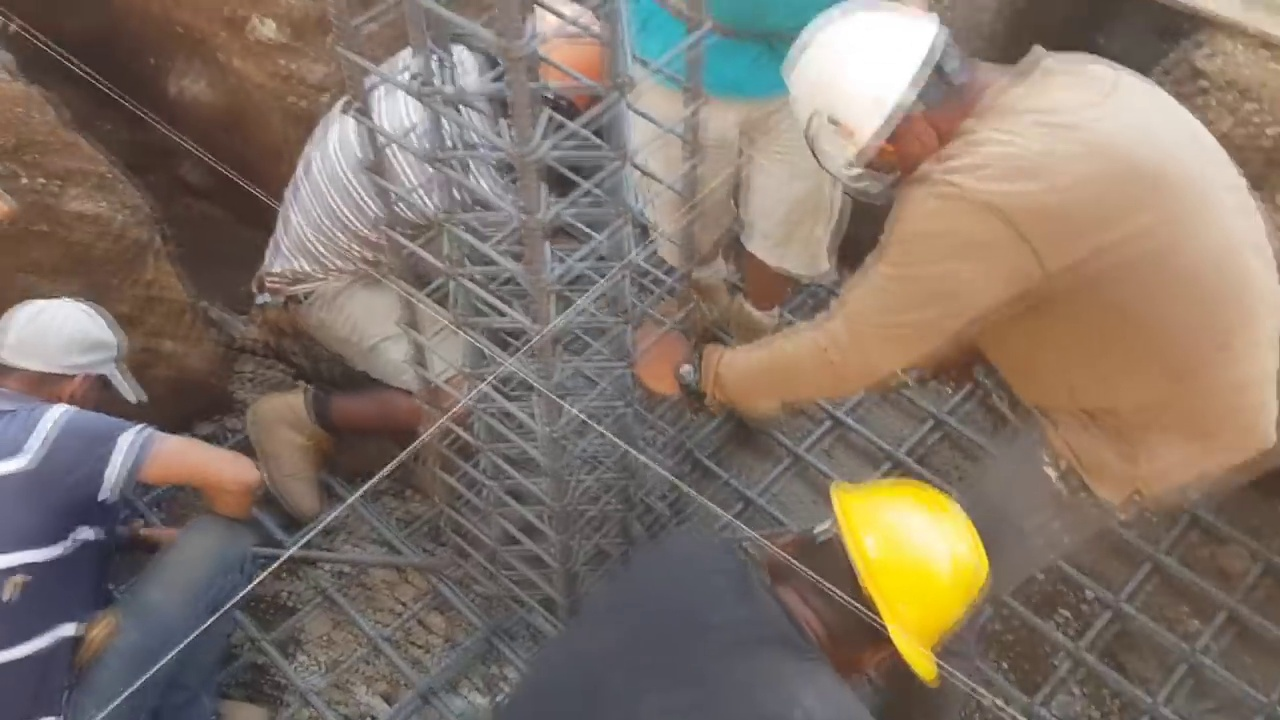helmet: (828, 482, 997, 684), (787, 10, 949, 196), (530, 9, 608, 119)
helmet-off: (1, 294, 137, 426)
helmet-on: (761, 476, 1006, 699), (784, 8, 1038, 201), (482, 16, 613, 140)
person: (642, 8, 1280, 605), (250, 0, 616, 527), (481, 471, 1012, 716), (0, 287, 262, 718), (612, 2, 852, 359)
